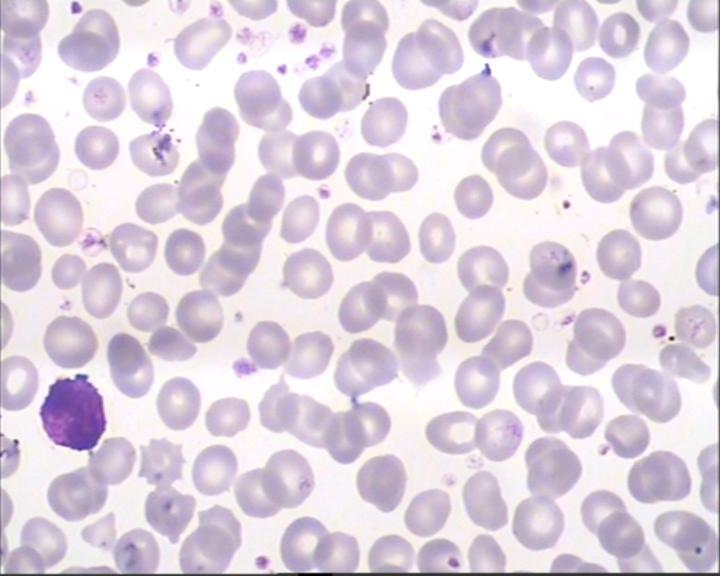baso: (34, 368, 112, 459)
